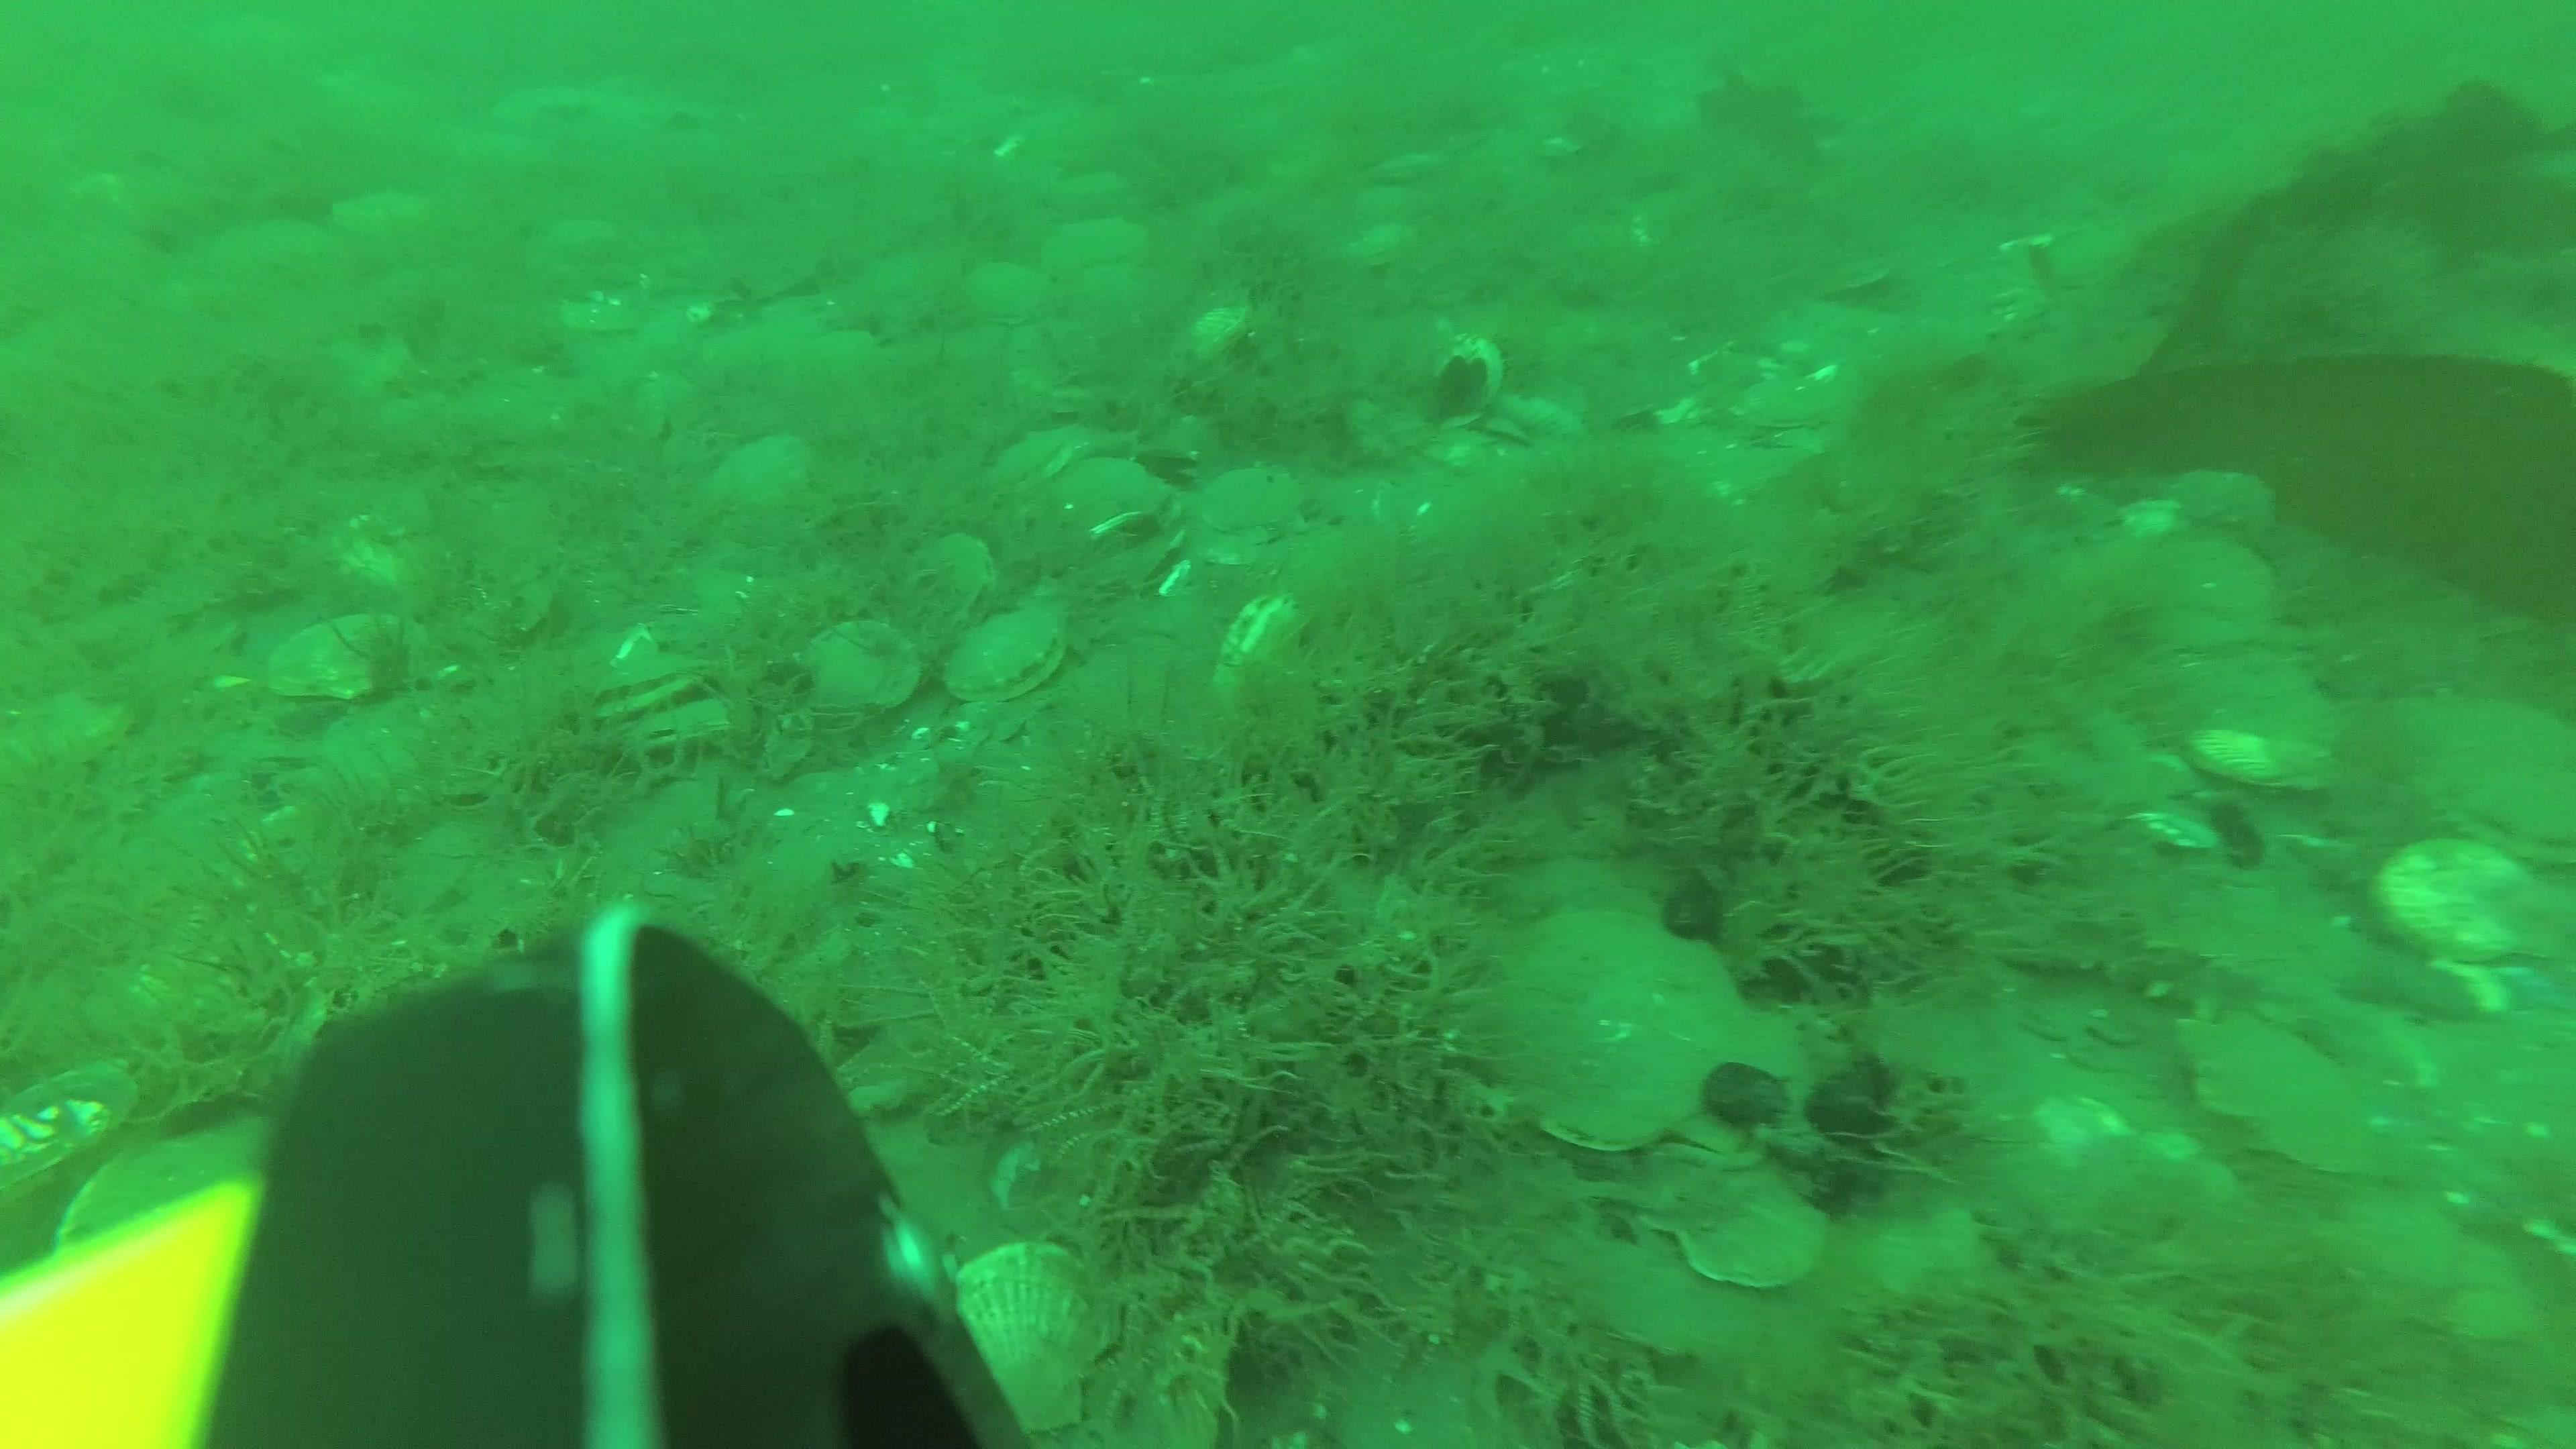holothurian: (2010, 920, 2258, 1014)
scallop: (1472, 909, 1725, 1159), (2166, 1016, 2388, 1182), (950, 1230, 1129, 1435), (2410, 683, 2576, 872), (2385, 835, 2551, 984), (1614, 1053, 1762, 1214), (1652, 1003, 1812, 1150), (2123, 527, 2282, 658), (1679, 1157, 1828, 1293), (2, 1067, 143, 1194), (2174, 662, 2344, 761), (1693, 331, 1836, 444), (274, 621, 433, 720), (2422, 1240, 2541, 1355), (794, 628, 924, 718), (2328, 1192, 2454, 1284), (2206, 720, 2350, 800), (893, 536, 1007, 632), (954, 607, 1058, 709), (1194, 467, 1311, 550), (2176, 462, 2288, 547), (1044, 209, 1162, 288), (1054, 462, 1166, 541), (720, 433, 817, 522), (993, 428, 1111, 497), (593, 655, 704, 725), (621, 711, 747, 773), (1178, 283, 1260, 368), (961, 260, 1051, 336), (333, 177, 426, 244)
